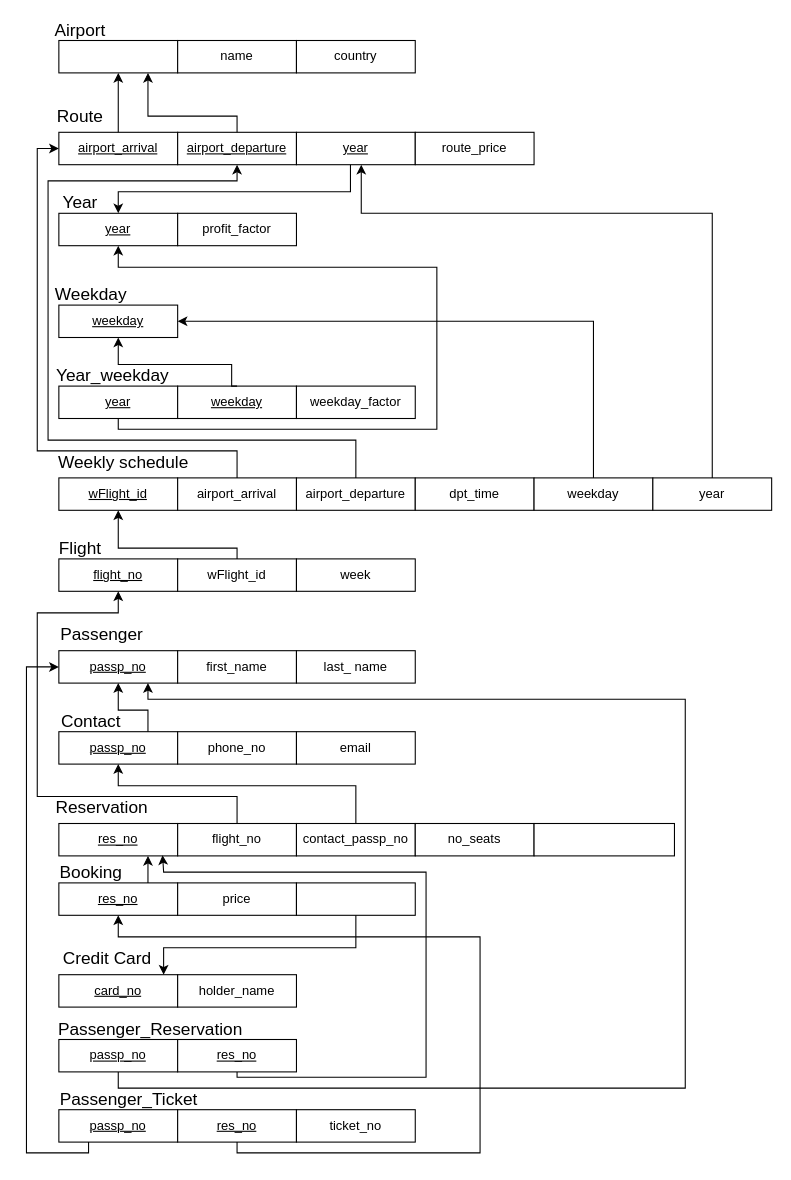
Some shapes in this 791 by 1180 pixel diagram are drawn without their labels. The shapes that lost their labels are listed below. From the top down, each one's box as (x1, y1, x2, y2) in pixels, then its label:
(58, 39, 178, 73): airport_code
(533, 822, 674, 856): passangers_added
(295, 882, 415, 915): payment_card
